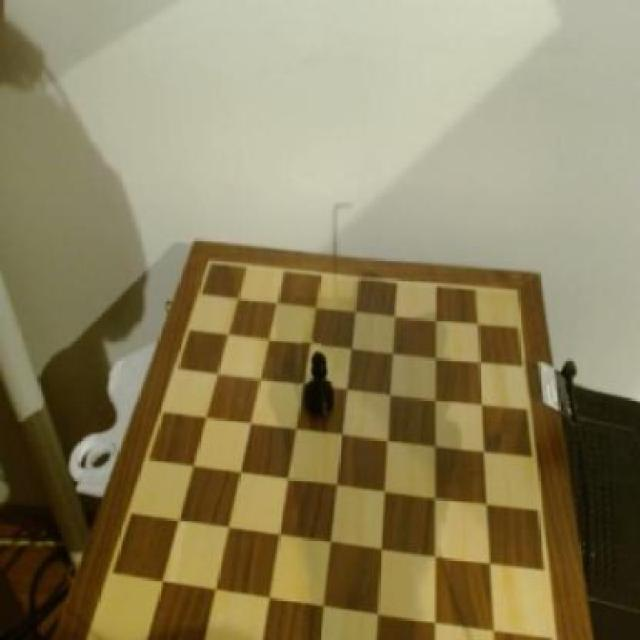black-knight: (300, 340, 340, 428)
